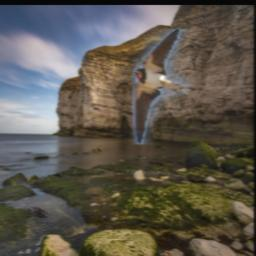Swallow: (132, 29, 205, 144)
